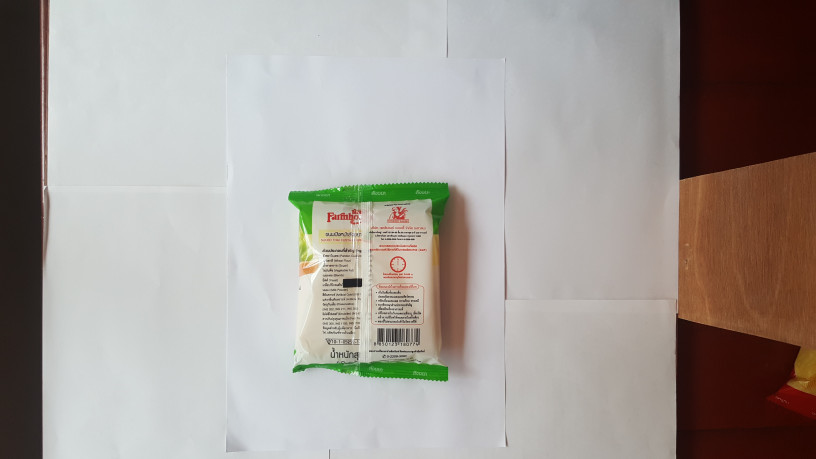farmhouse-bread-pandan: (281, 180, 459, 385)
